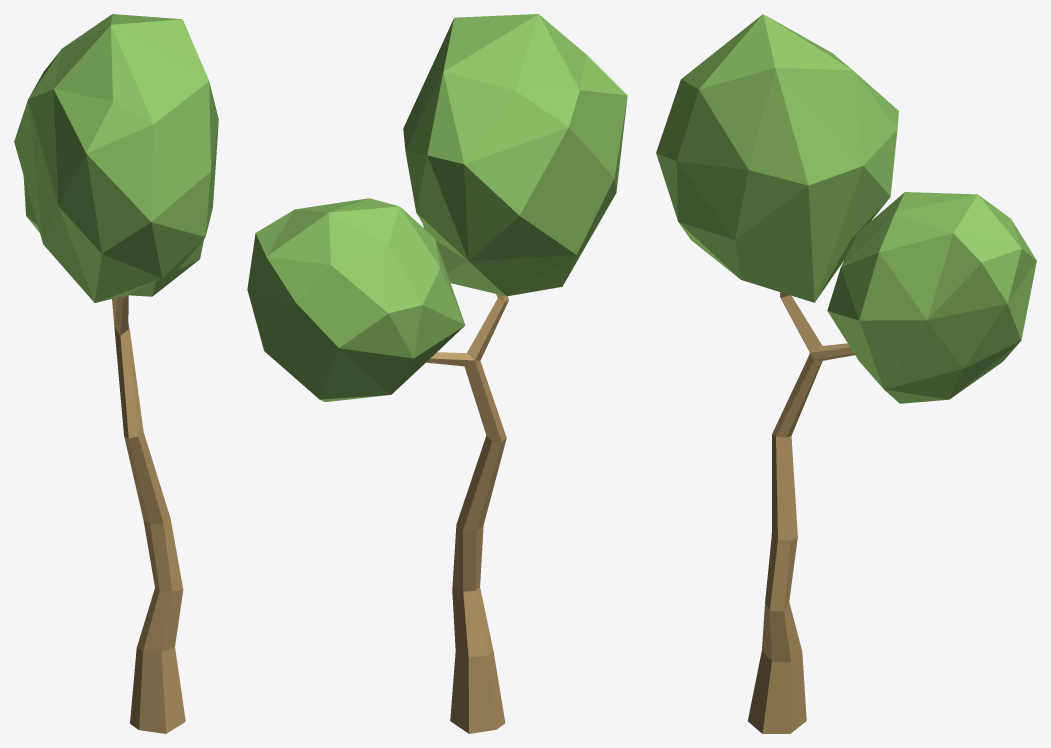
File: Oak_Tree_m_10_LOD.fbx
3 views of the same model, side by side, from view 1: azimuth 30°, elevation 25°; view 2: azimuth 150°, elevation 25°; view 3: azimuth 270°, elevation 25° (orthographic). The views are drawn at different scales.
Parts seen in each view (by area): view 1: Oak_Tree_m_10_LOD0; view 2: Oak_Tree_m_10_LOD0; view 3: Oak_Tree_m_10_LOD0.
Boxes of the visible parts, x1,y1,x2,y2 form: Oak_Tree_m_10_LOD0: [14, 14, 218, 733]; Oak_Tree_m_10_LOD0: [247, 14, 627, 733]; Oak_Tree_m_10_LOD0: [656, 14, 1036, 733].
Size of what is drawn, in the model's own units: 266 by 772 by 389.
